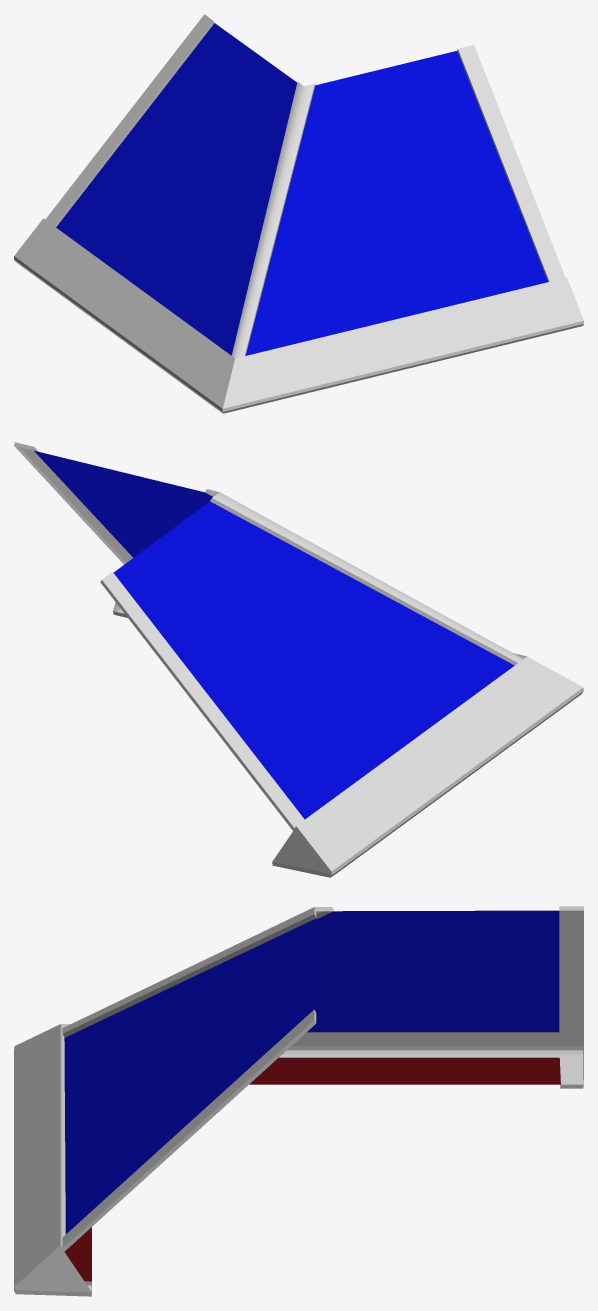
File: Roof45_WithOverhang.fbx
3 views of the same model, one above another, from view 1: azimuth 30°, elevation 25°; view 2: azimuth 150°, elevation 25°; view 3: azimuth 270°, elevation 25° (orthographic). The views are drawn at different scales.
Parts seen in each view (by area): view 1: Roof 45 Corner001; view 2: Roof 45 Corner001; view 3: Roof 45 Corner001.
Part boxes in pixels (left/top/right/bottom): Roof 45 Corner001: left=14, top=14, right=583, bottom=413; Roof 45 Corner001: left=14, top=442, right=583, bottom=877; Roof 45 Corner001: left=14, top=906, right=583, bottom=1296.
Size of the model in its own units: 406 by 217 by 406.
